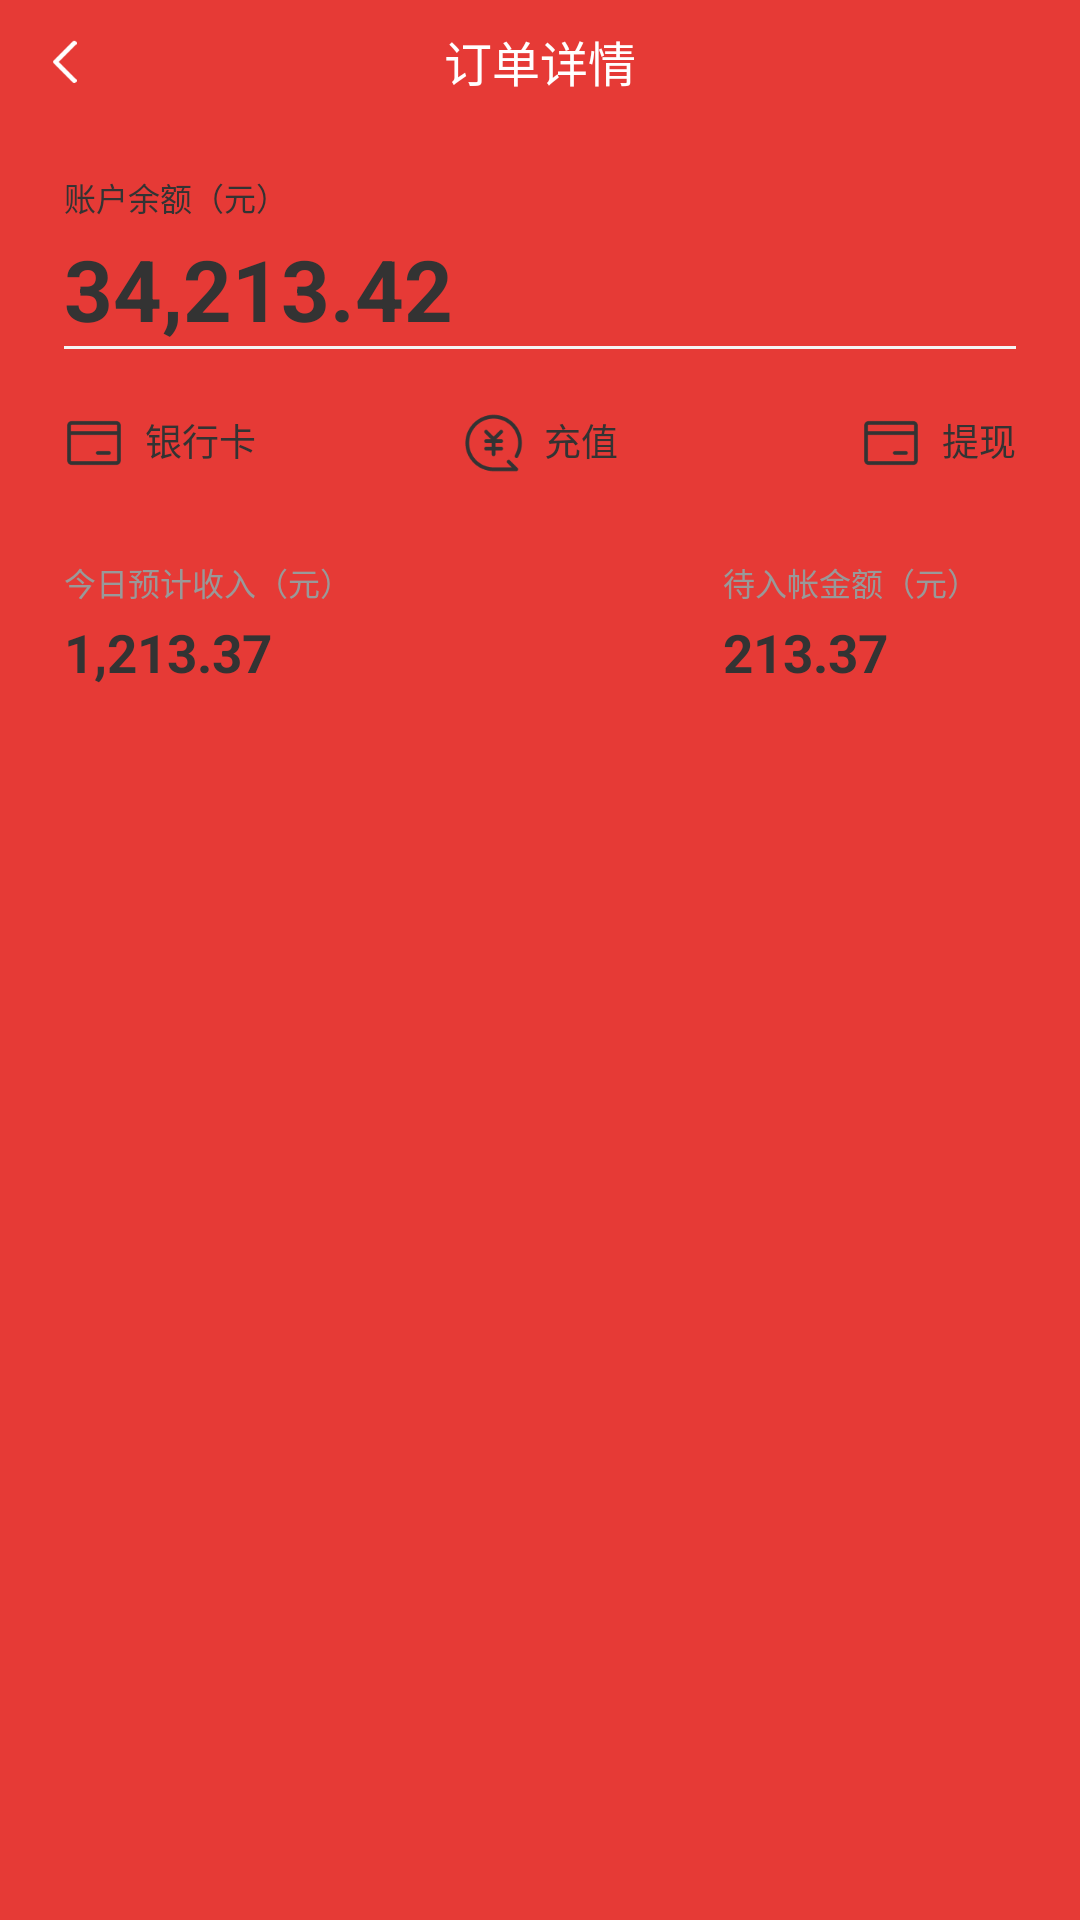

Where icons sit on this 1080px x 1920px app screen, as (x1, y1, x2, y2):
left back: (53, 40, 77, 83)
